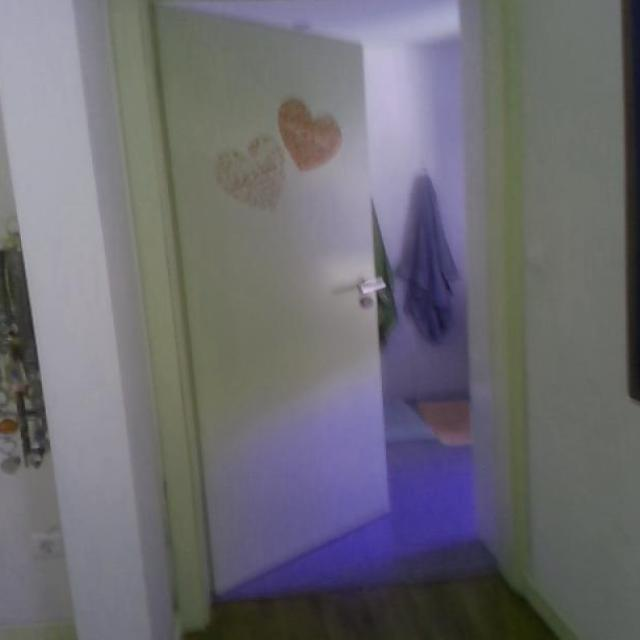Door: (148, 3, 394, 598)
